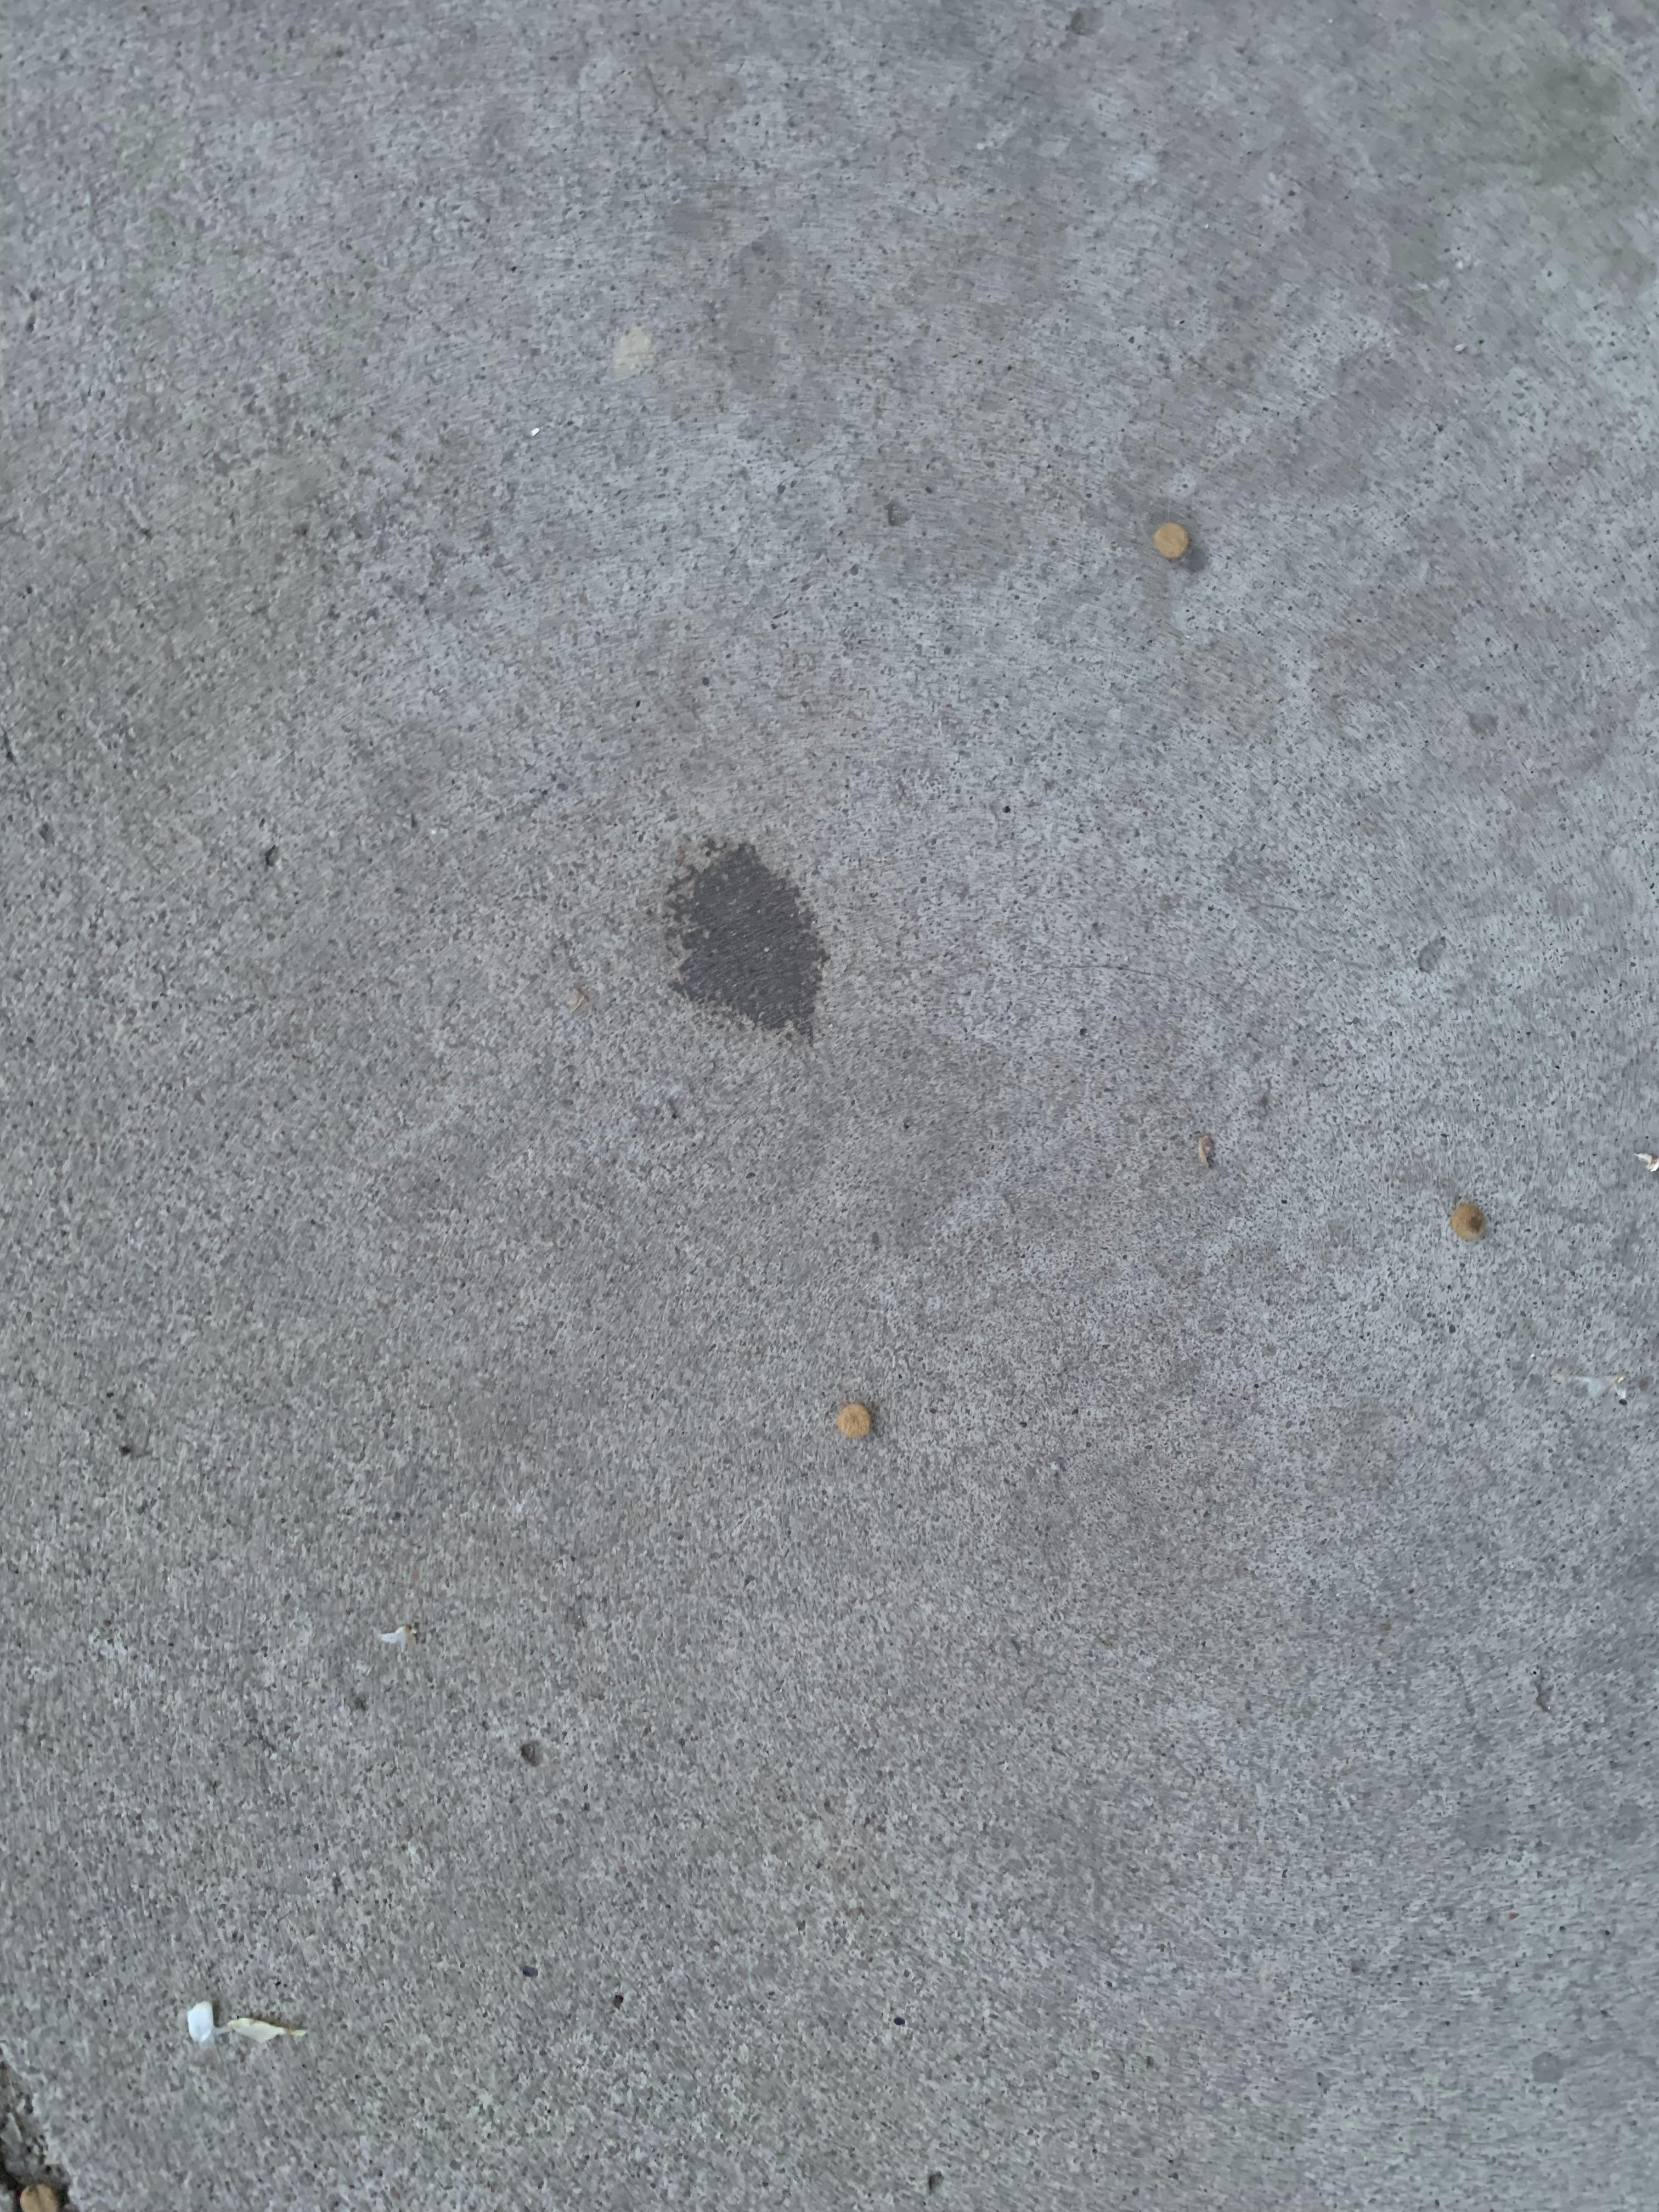grey spot: (655, 841, 831, 1040)
